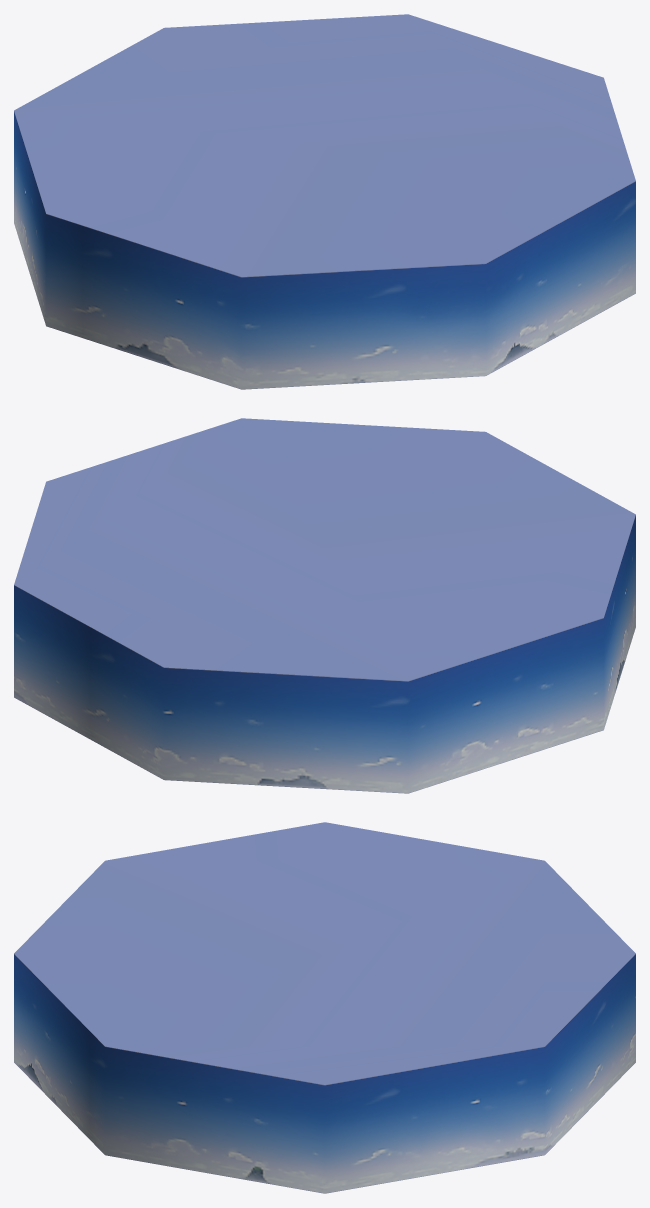
Rendered from treasurehunt.glb.
3 renders of one model, top to bottom at view 1: azimuth 30°, elevation 25°; view 2: azimuth 150°, elevation 25°; view 3: azimuth 270°, elevation 25°, orthographic. The views are drawn at different scales.
Parts seen in each view (by area): view 1: beachbackground; view 2: beachbackground; view 3: beachbackground.
Part boxes in pixels (x1,y1,x2,y2): beachbackground: (14,14,635,389); beachbackground: (14,418,635,793); beachbackground: (14,822,635,1193).
Bounding box in the file's own units: 724 × 140 × 724.
Materials: 10 (10 with a texture image).
